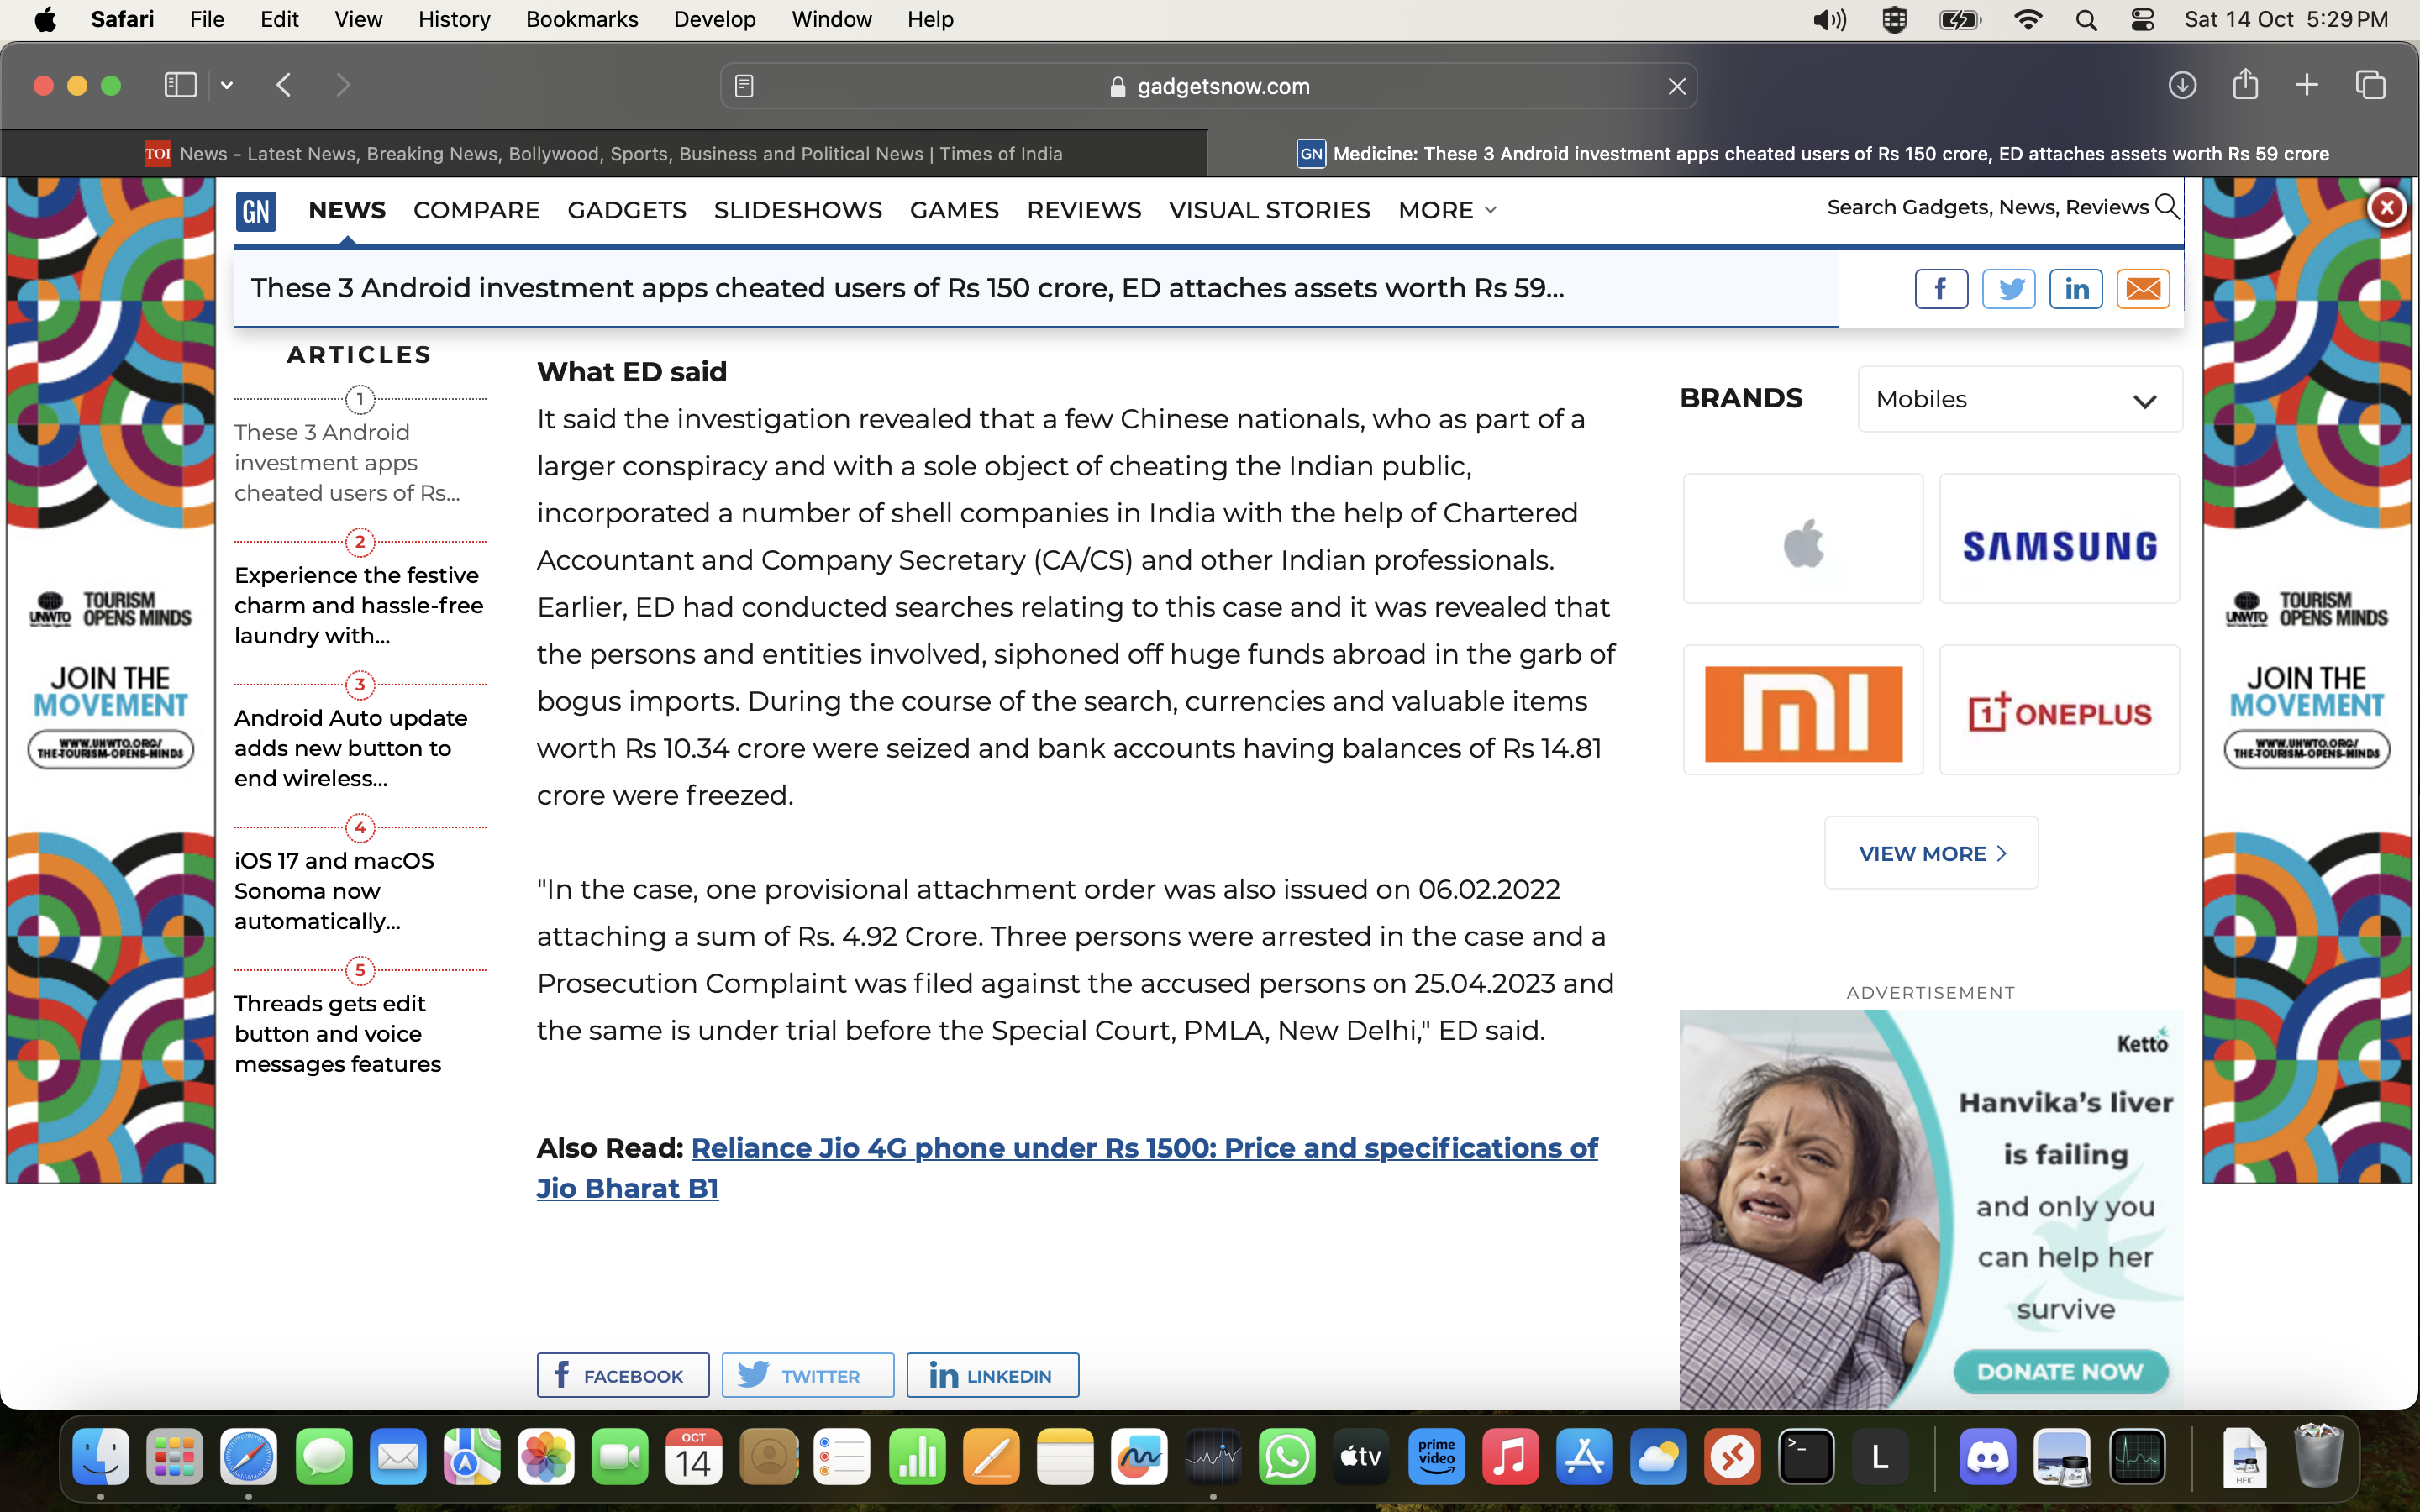Image: (3, 183, 220, 1185), (1678, 1009, 2190, 1414), (2211, 186, 2413, 1188), (230, 193, 289, 233)
Paragraph: (523, 387, 1619, 822), (526, 866, 1615, 1052), (523, 1129, 1612, 1212), (253, 263, 1568, 319), (1934, 1075, 2187, 1191), (1964, 1195, 2160, 1334), (230, 982, 446, 1099), (233, 413, 460, 519), (233, 705, 479, 800), (226, 556, 490, 643), (226, 836, 443, 939), (1944, 505, 2164, 589), (1821, 186, 2146, 240), (1967, 679, 2160, 749), (533, 340, 732, 387), (1155, 193, 1378, 233), (1671, 373, 1828, 423), (709, 190, 889, 233), (533, 1348, 713, 1392), (1009, 190, 1152, 240), (1835, 965, 2028, 1002), (1854, 833, 2018, 873), (409, 186, 549, 233), (728, 1355, 899, 1392), (1868, 373, 1997, 420), (566, 186, 692, 230), (909, 1359, 1068, 1392), (300, 183, 399, 233), (1392, 193, 1502, 237), (902, 186, 1005, 226), (2110, 1016, 2187, 1059)
